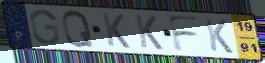F: (166, 14, 201, 54)
G: (28, 8, 61, 46)
K: (133, 13, 165, 52), (203, 17, 235, 55), (101, 12, 132, 50)
Q: (61, 9, 96, 49)
